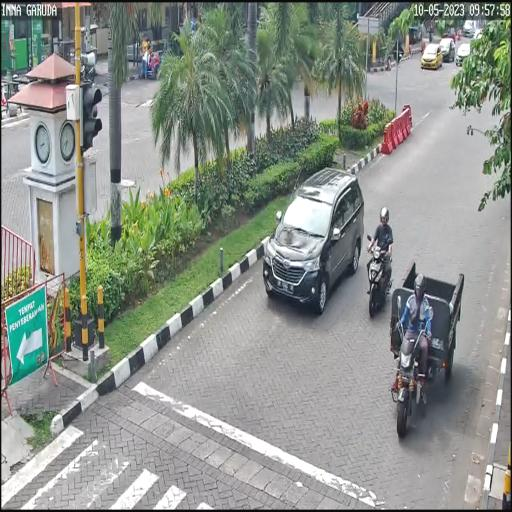mobil: (258, 162, 366, 319)
motor: (384, 318, 432, 440), (364, 227, 394, 325)
